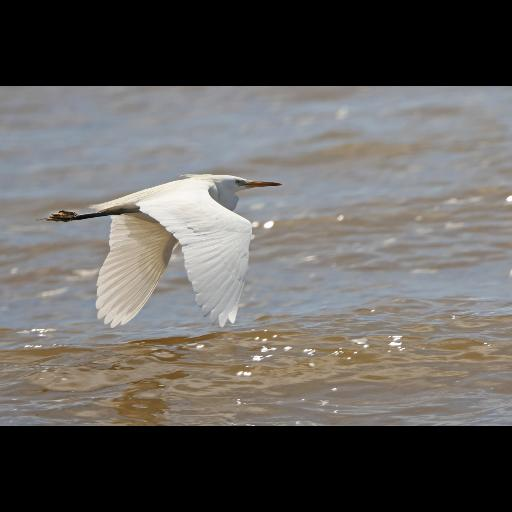chinese_egret: (36, 174, 284, 328)
